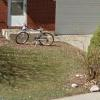Bicycle: (13, 19, 63, 61)
